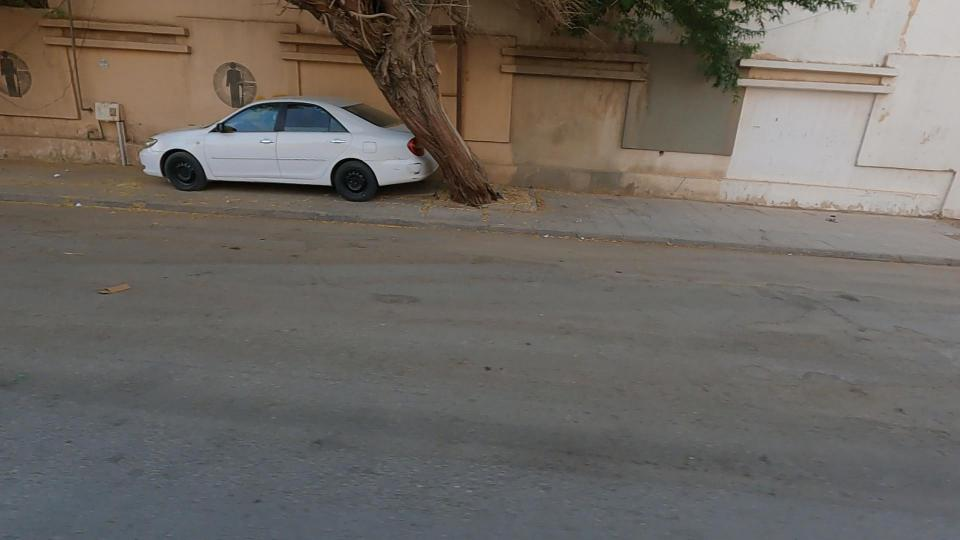GARBAGE: (68, 254, 164, 329)
